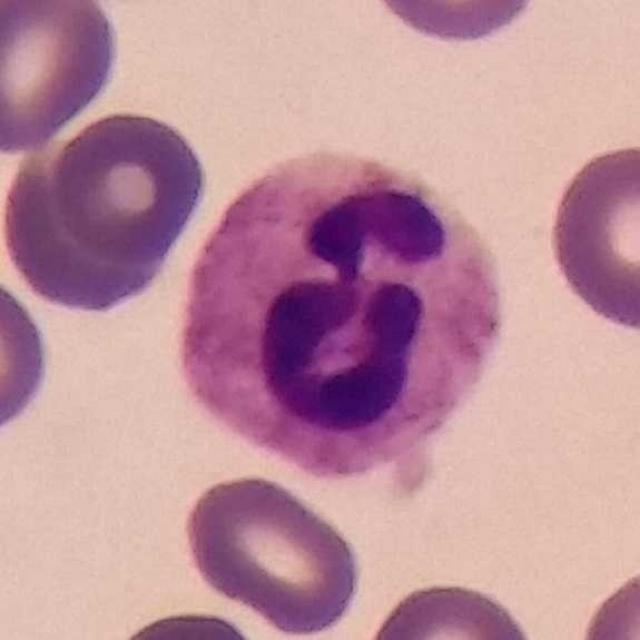Neutrophil: (176, 152, 520, 481)
Platelets: (382, 446, 446, 506)
RBC: (176, 467, 367, 639), (0, 145, 178, 318), (45, 106, 212, 267), (542, 137, 640, 339), (0, 0, 125, 155), (356, 574, 542, 640), (0, 266, 56, 450), (362, 0, 550, 49), (96, 603, 279, 640), (574, 560, 640, 640)
